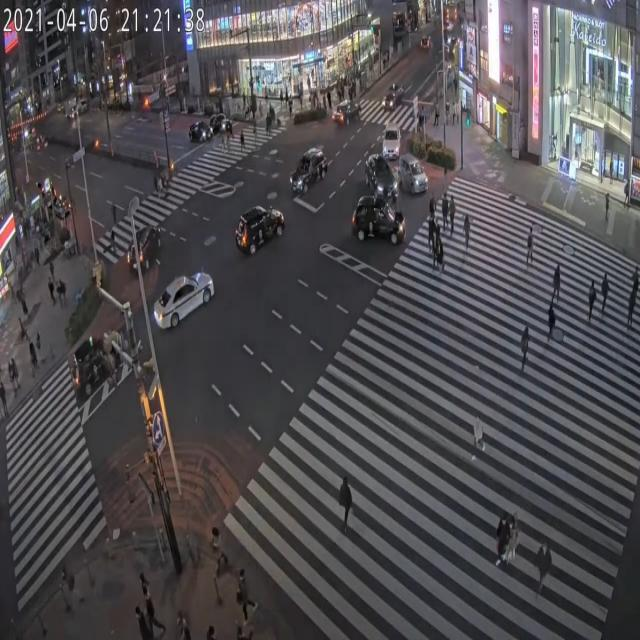humans: (327, 458, 359, 542), (462, 396, 486, 476), (234, 561, 255, 625), (491, 506, 508, 576), (207, 518, 226, 580), (536, 532, 554, 591), (517, 320, 532, 382), (542, 296, 559, 350), (506, 515, 522, 567), (548, 263, 568, 304), (585, 272, 599, 330), (620, 286, 636, 336), (600, 275, 617, 321), (526, 219, 540, 268), (462, 204, 472, 261), (439, 189, 449, 231), (450, 191, 458, 243), (428, 213, 436, 259), (428, 191, 437, 228), (435, 238, 443, 279)
